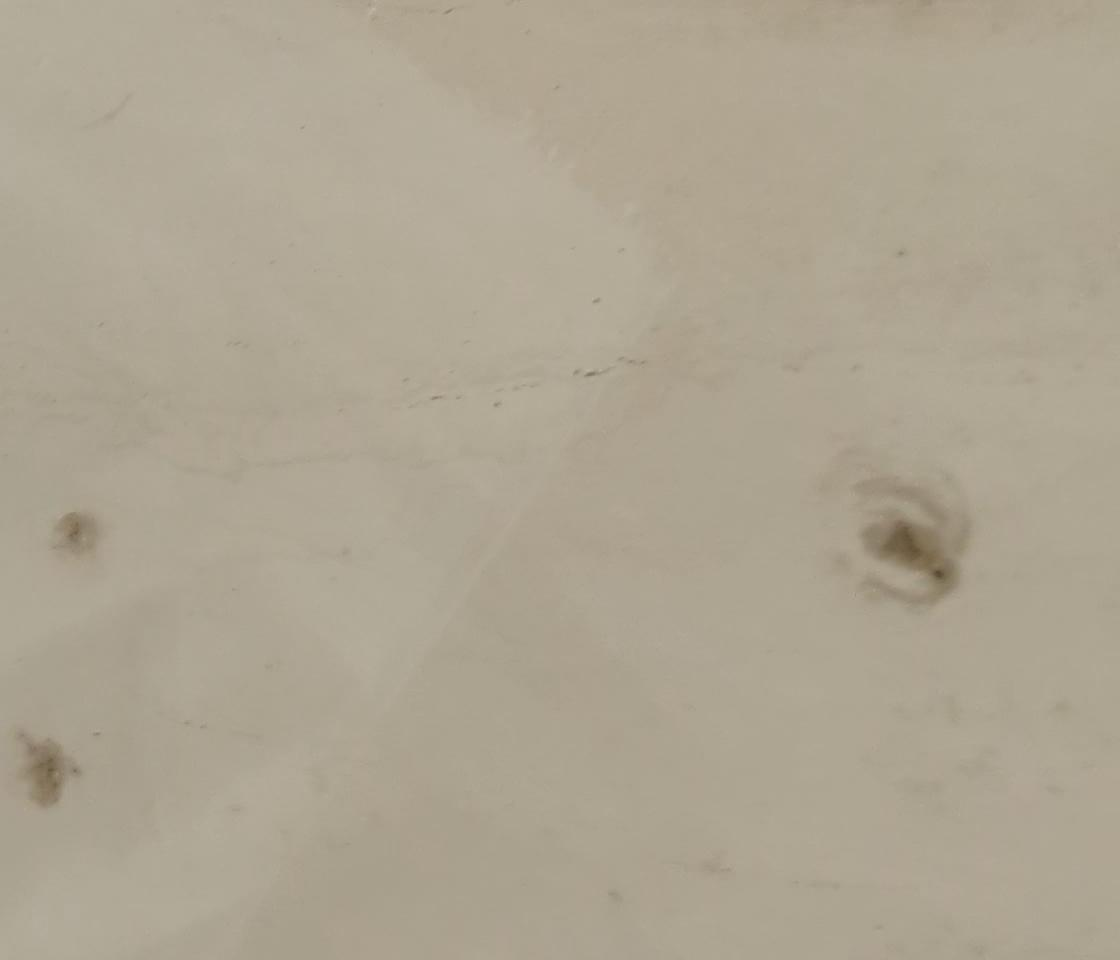paint_peel: (21, 732, 70, 811), (40, 508, 100, 558)
